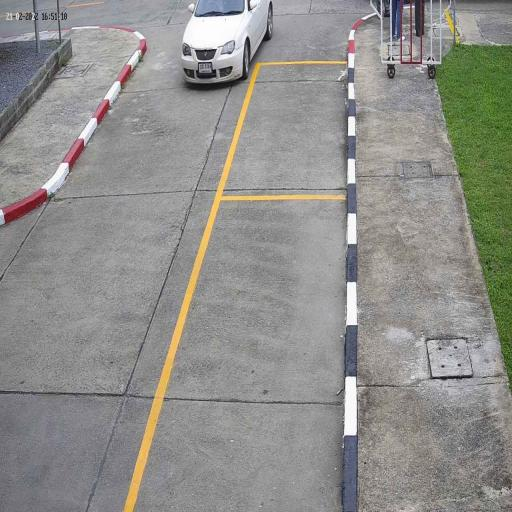car: (178, 0, 276, 85)
